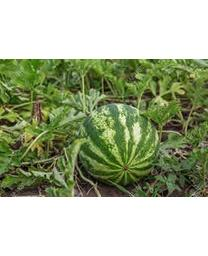watermelon: (76, 104, 161, 184)
